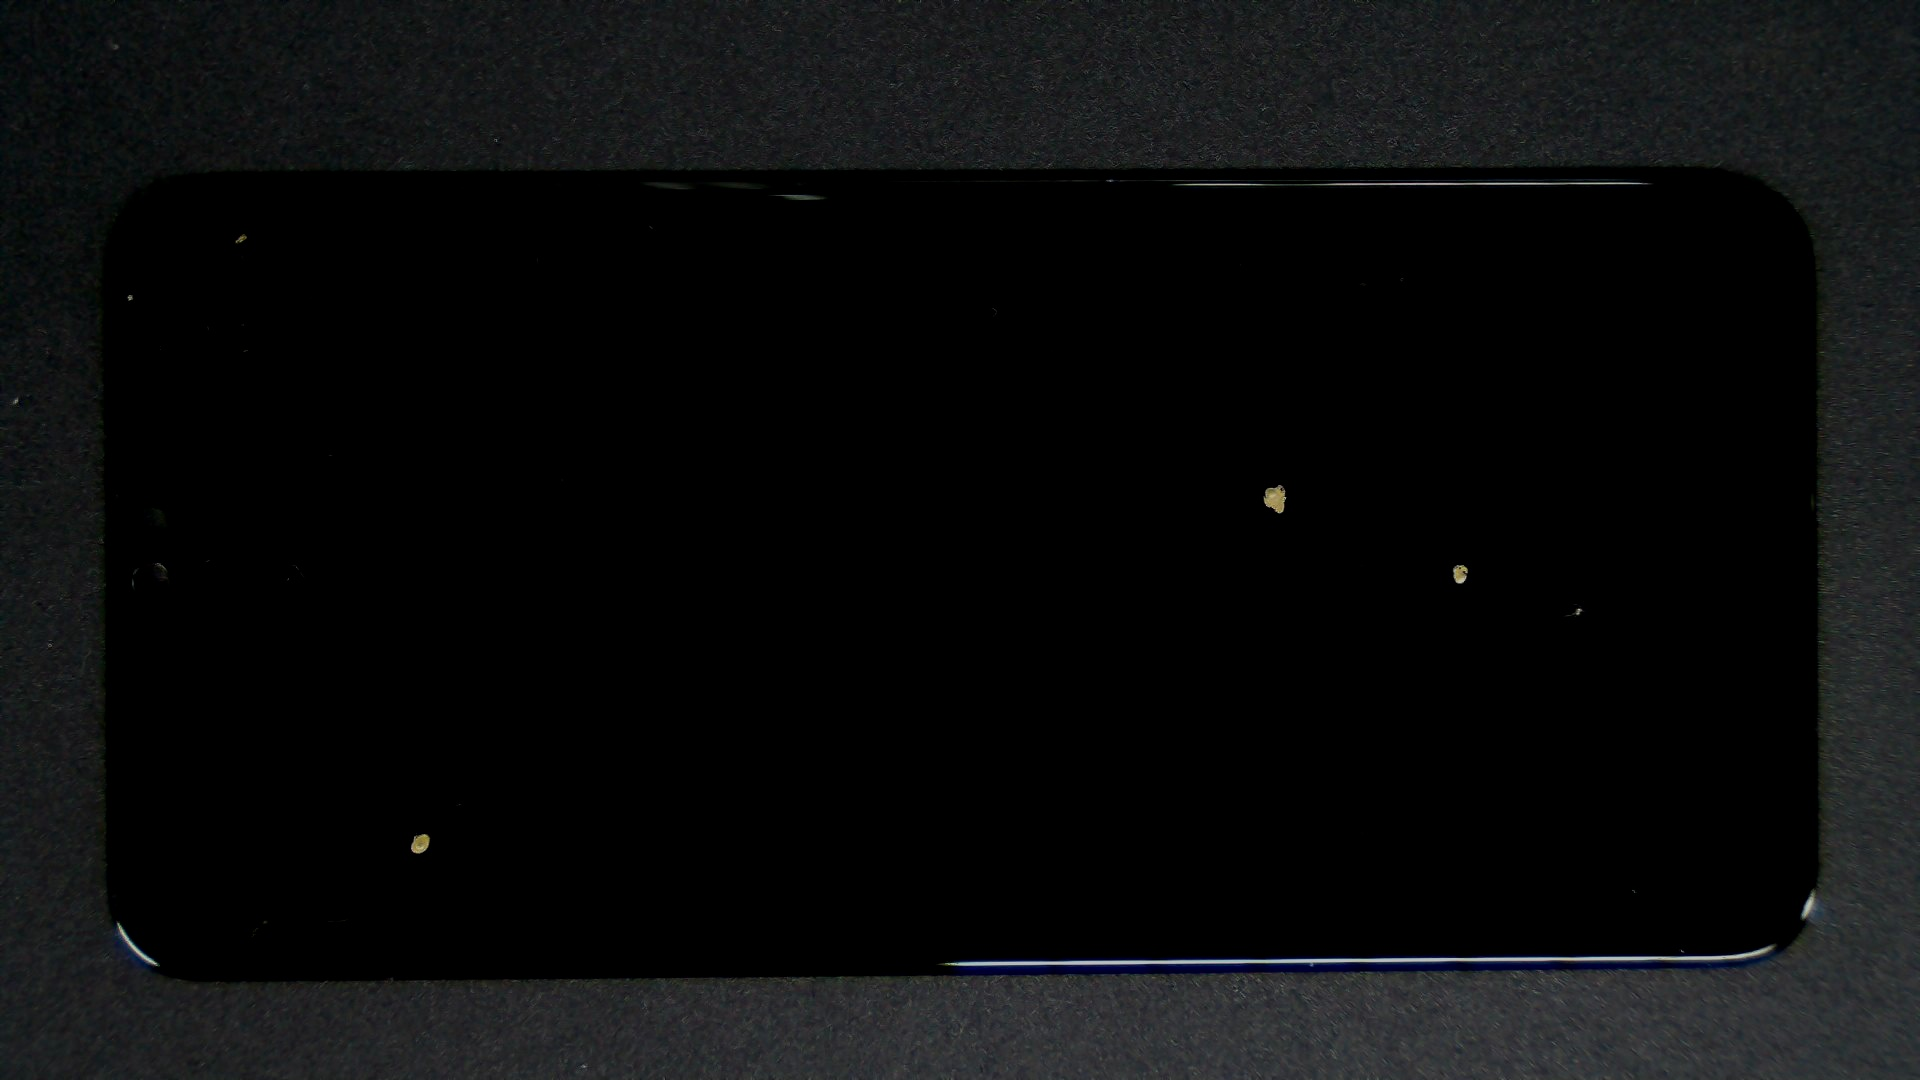oil: (783, 298, 1920, 894), (729, 281, 1920, 847), (640, 241, 1917, 725), (210, 415, 628, 1080), (123, 115, 364, 349), (63, 146, 189, 442)
